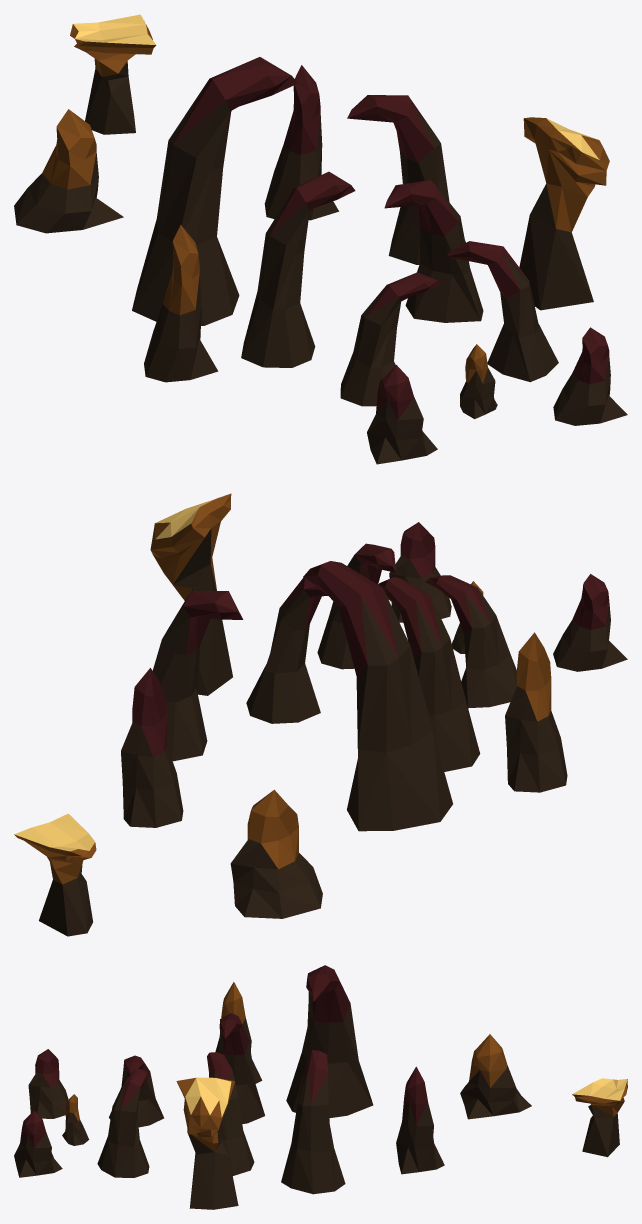
Rendered from Island_B01_Formation05.fbx.
The picture shows the model from 3 angles, top to bottom: view 1: azimuth 30°, elevation 25°; view 2: azimuth 150°, elevation 25°; view 3: azimuth 270°, elevation 25°; orthographic projection. The views are drawn at different scales.
Parts seen in each view (by area): view 1: Island_B01_Spike_Formations5_Combi; view 2: Island_B01_Spike_Formations5_Combi; view 3: Island_B01_Spike_Formations5_Combi.
Part boxes in pixels (x1,y1,x2,y2): Island_B01_Spike_Formations5_Combi: (14,14,627,464); Island_B01_Spike_Formations5_Combi: (14,493,627,936); Island_B01_Spike_Formations5_Combi: (14,965,627,1209).
Size of the model in its own units: 71.27 by 35.96 by 127.
